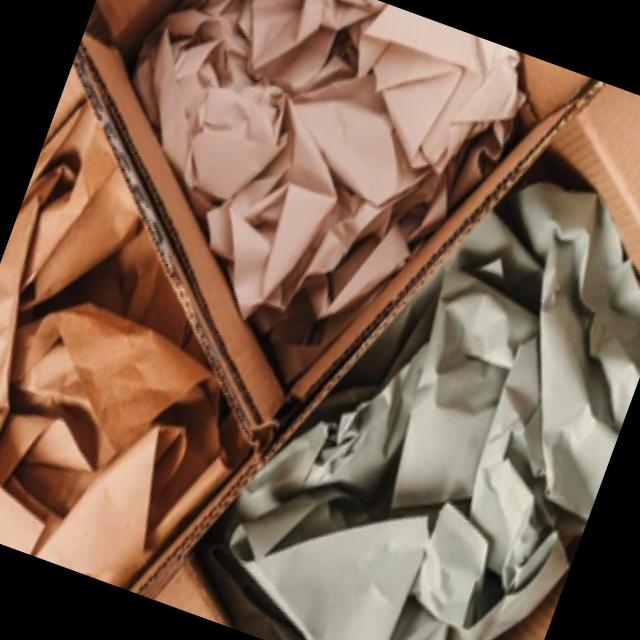KertasBekas: (187, 109, 640, 640), (48, 0, 541, 429)
